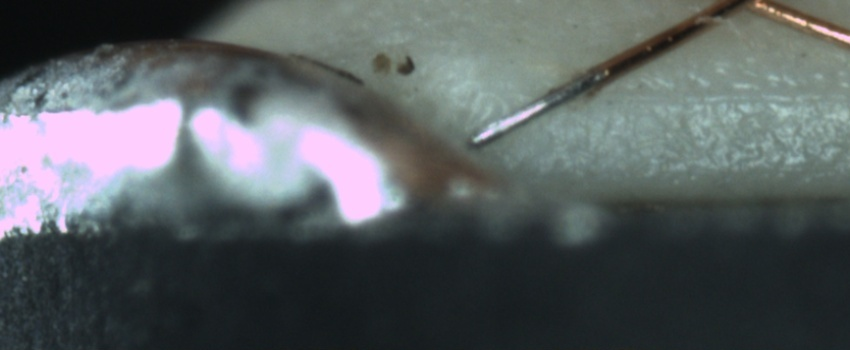CL: (707, 0, 783, 18)
DL: (564, 67, 850, 131)
TS: (467, 68, 596, 149)
